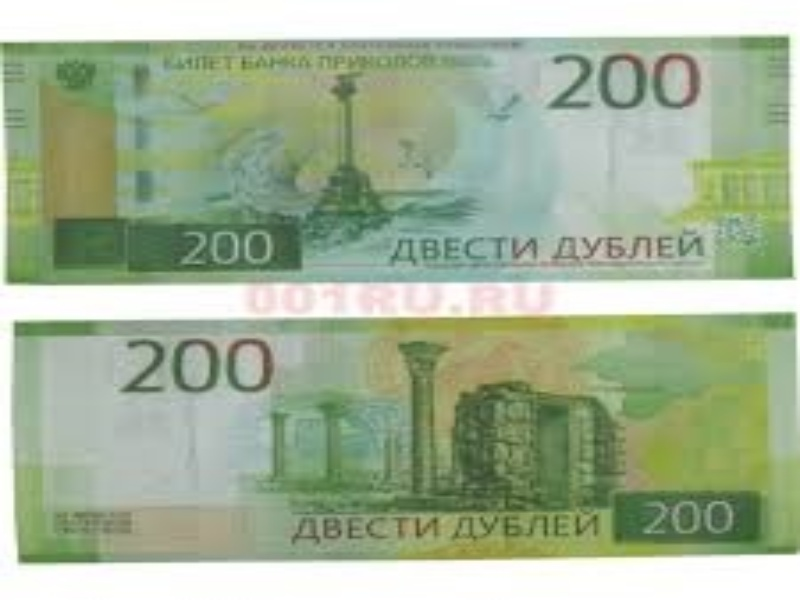cash: (1, 35, 795, 284), (11, 312, 800, 561)
